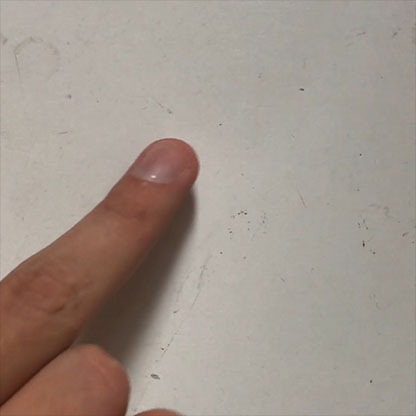fingertip: (120, 130, 205, 197)
